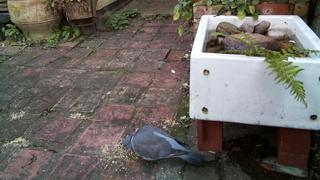wood pigeon: (123, 125, 205, 167)
